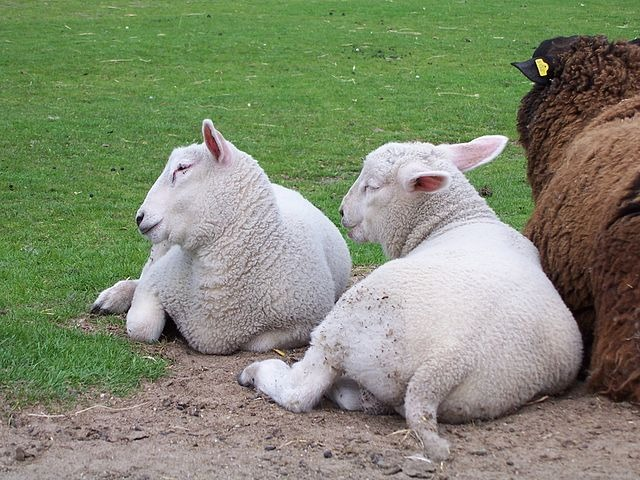resting: (243, 133, 587, 420), (88, 117, 350, 350)
